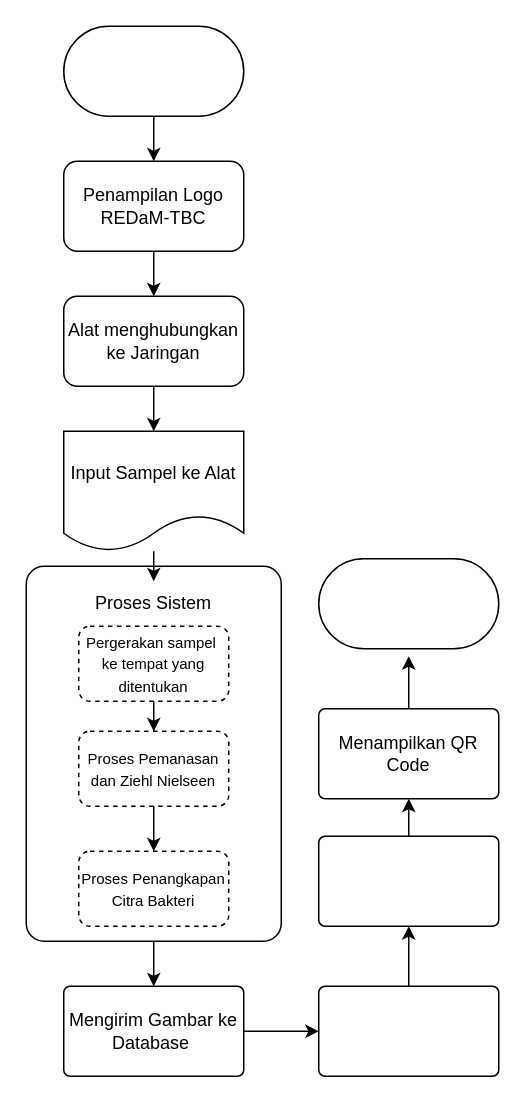
This 525x1103 diagram has some shape labels left out. The shapes that lost their labels are listed below. From the top down, each one's box as (x1, y1, x2, y2) in pixels, then its label:
(62, 25, 244, 116): Alat diaktifkan
(317, 557, 499, 649): Sistem OFF
(317, 835, 499, 926): Mengubah link zip menjadi QR Code
(317, 985, 499, 1076): Mengubah ke Format Zip
